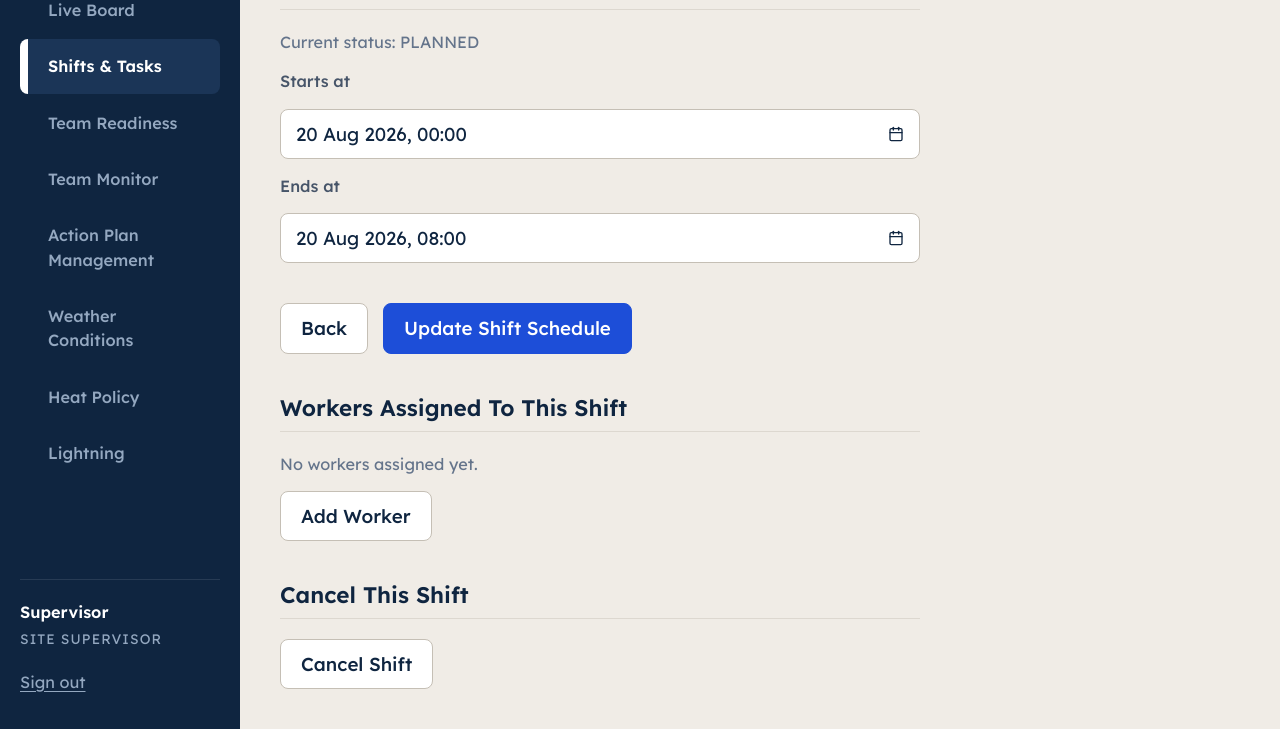
Test case: EditShiftForm › cancels with a reason and shows the terminal state
(page scrolled)
Step 1. Click the button "Cancel Shift" → (357, 664), box [280,639,433,689]
(page scrolled)
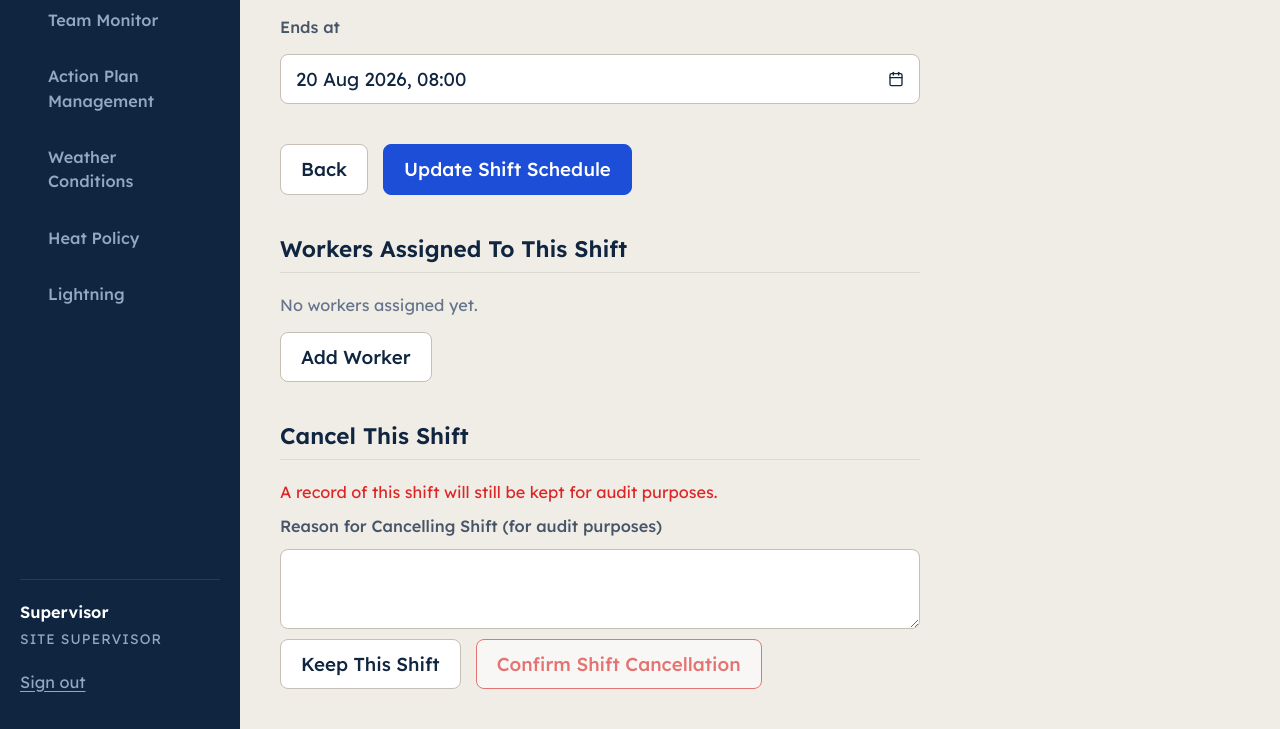
Step 2. Type "Bad weather — site closed" into the text box labelled "Reason for Cancelling Shift (for audit purposes)" → (600, 589), box [280,549,920,629]
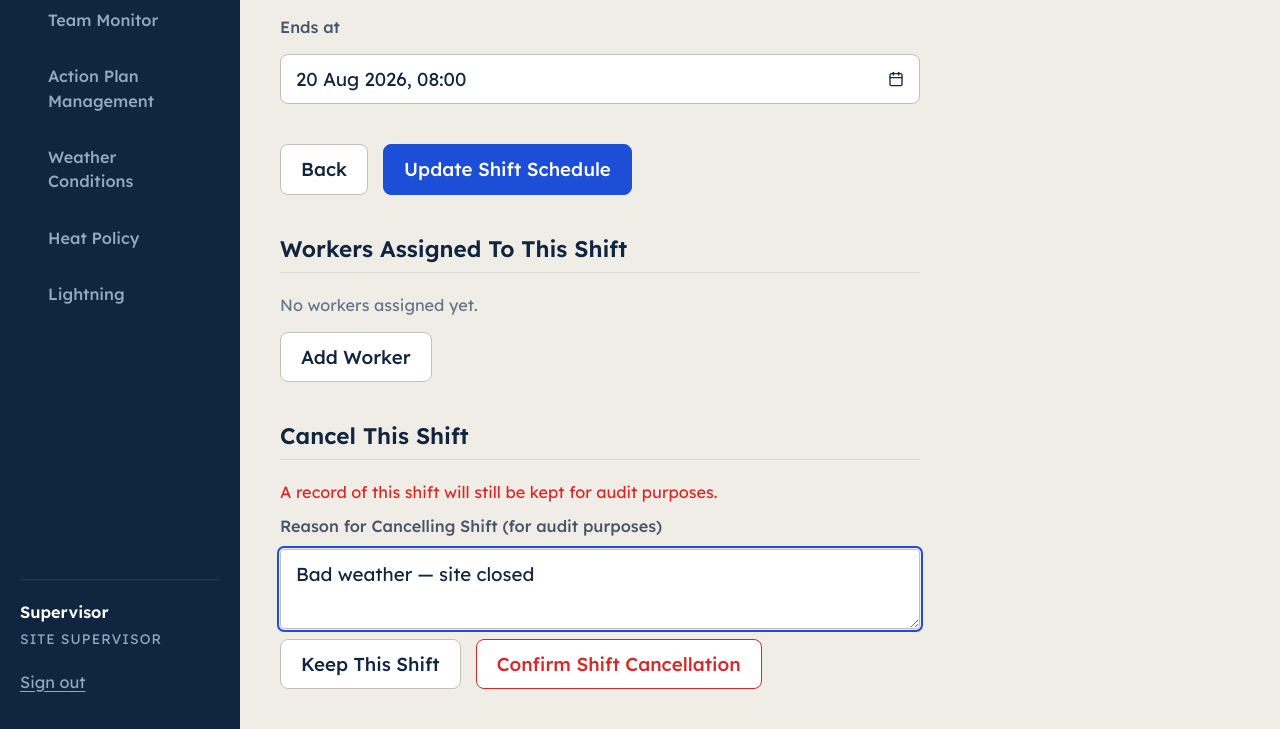
Step 3. Click the button "Confirm Shift Cancellation" → (619, 664), box [476,639,762,689]
(page scrolled)
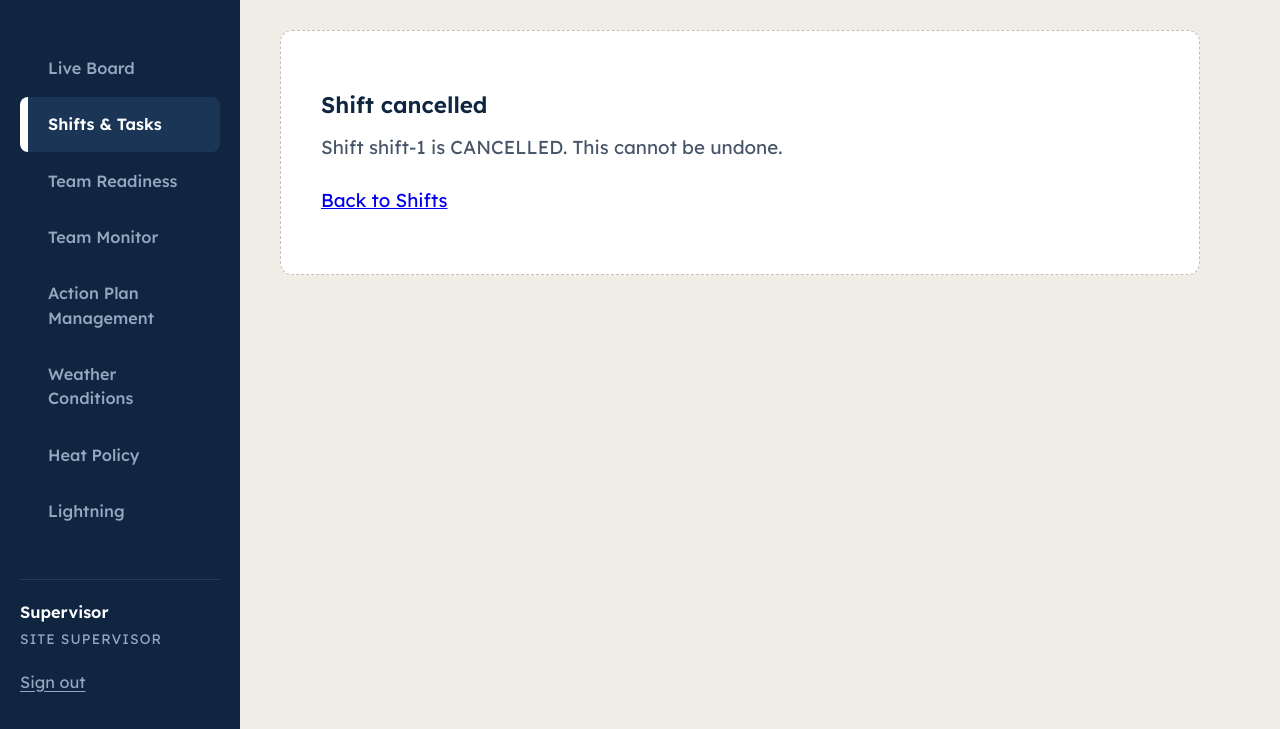
Check: the heading "Shift cancelled" is shown, box [321,91,487,118]
